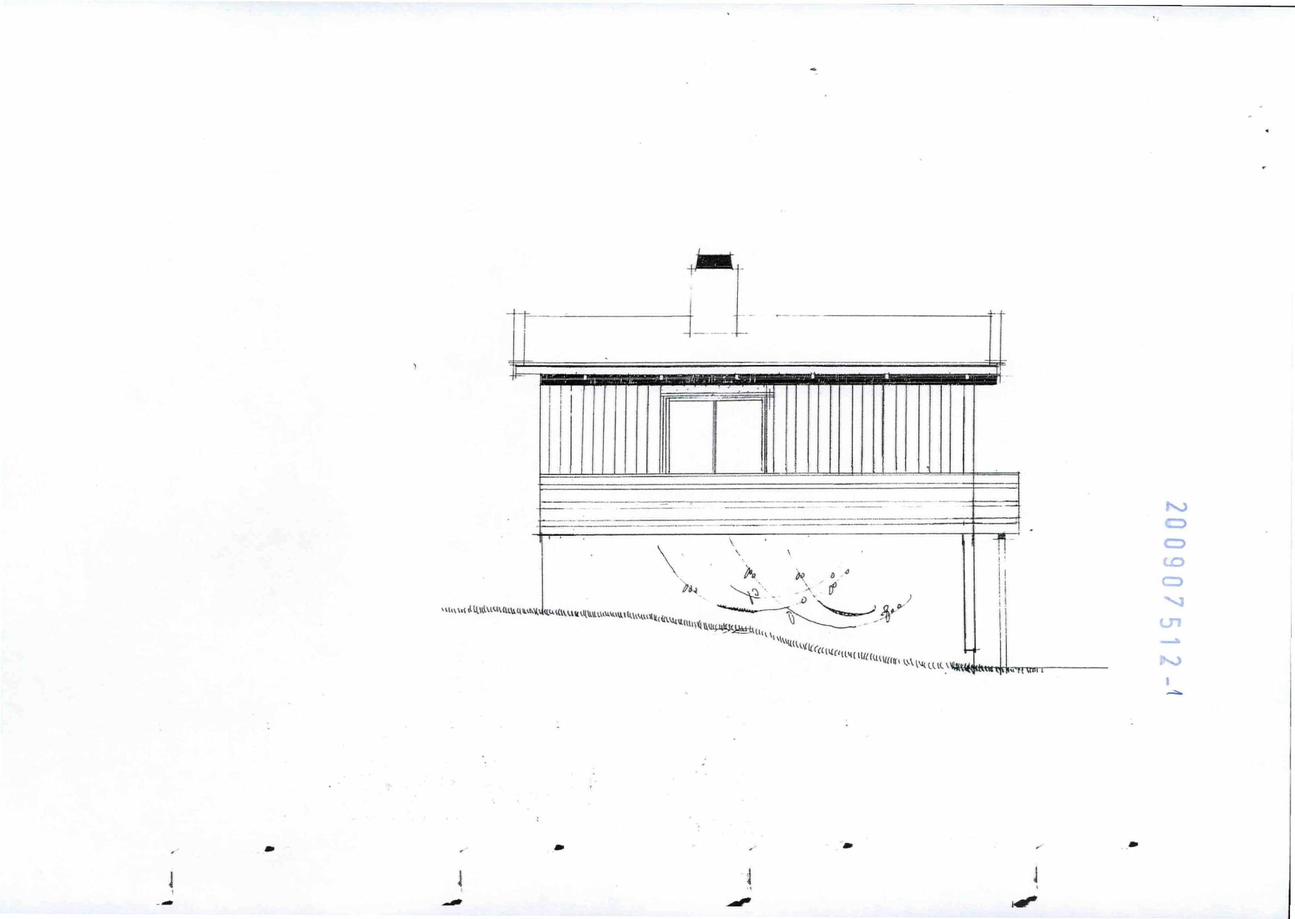fasade: (510, 251, 1026, 678)
